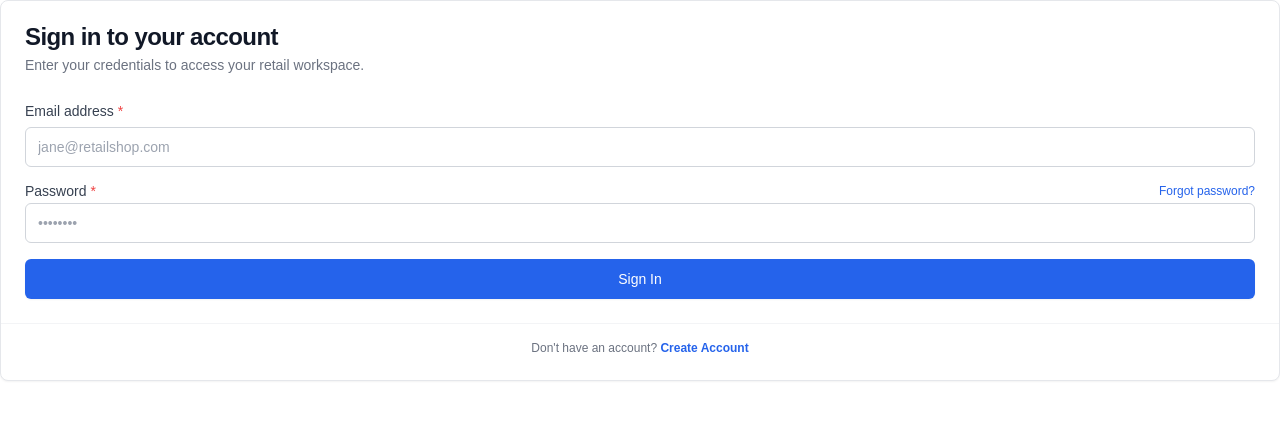
Scenario: T022–T024: Authentication Form Components › SignInForm (T023) › shows error when submitting empty credentials
This screenshot has width=1280, height=438.
Click the button "Sign In" at [640, 279], box x1=25 y1=259 x2=1255 y2=299
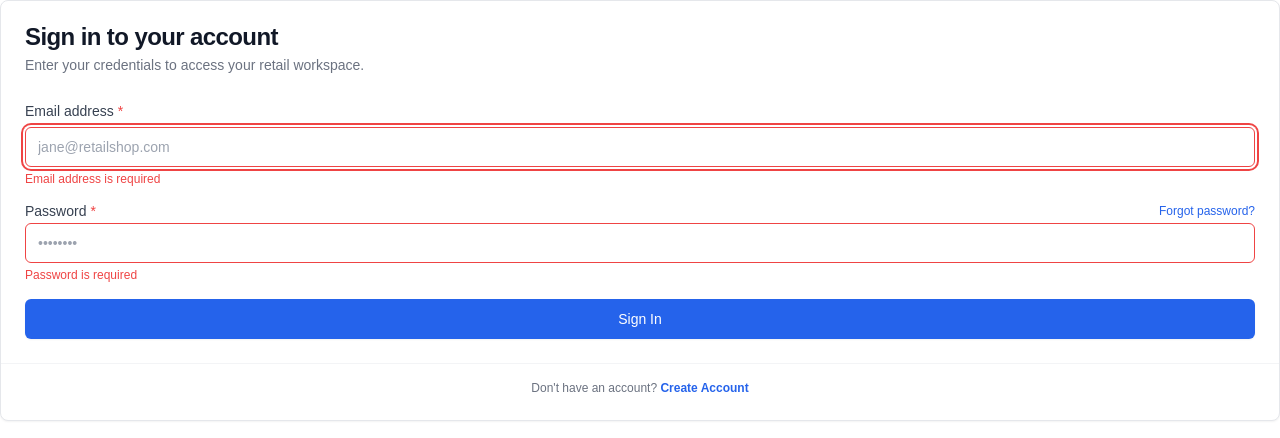
Result: the text "Email address is required" is shown at x1=25 y1=172 x2=160 y2=186
Result: the text "Password is required" is shown at x1=25 y1=268 x2=137 y2=282
